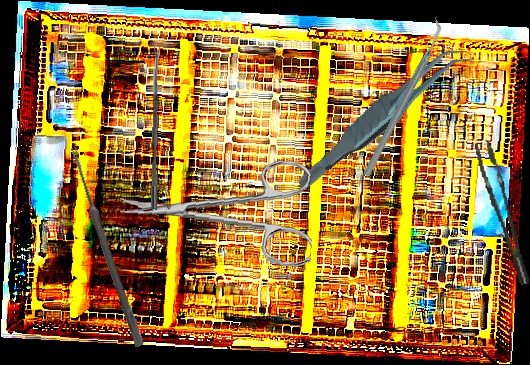Chopper: (316, 15, 489, 179)
Iris Scissors: (116, 149, 318, 268)
Surgical Spoon: (67, 146, 146, 348), (151, 45, 161, 210)
Tissue Forceps: (274, 41, 492, 192), (474, 137, 530, 289)
